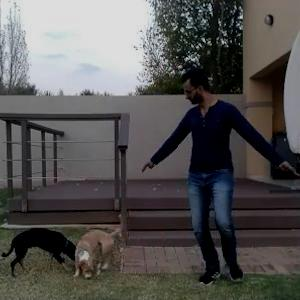land: (135, 66, 297, 289)
